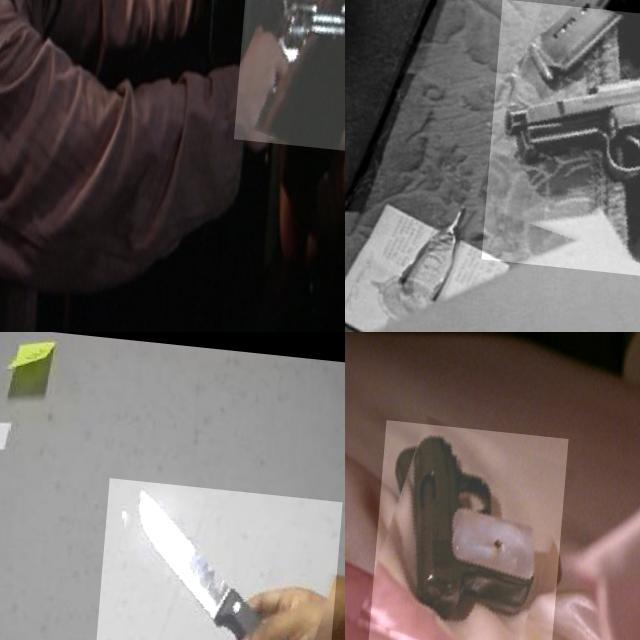-: (100, 472, 344, 640)
gun-knife-thesis - v11 Yolov5 augmented: (377, 415, 573, 640), (487, 0, 640, 277), (240, 0, 345, 141)
